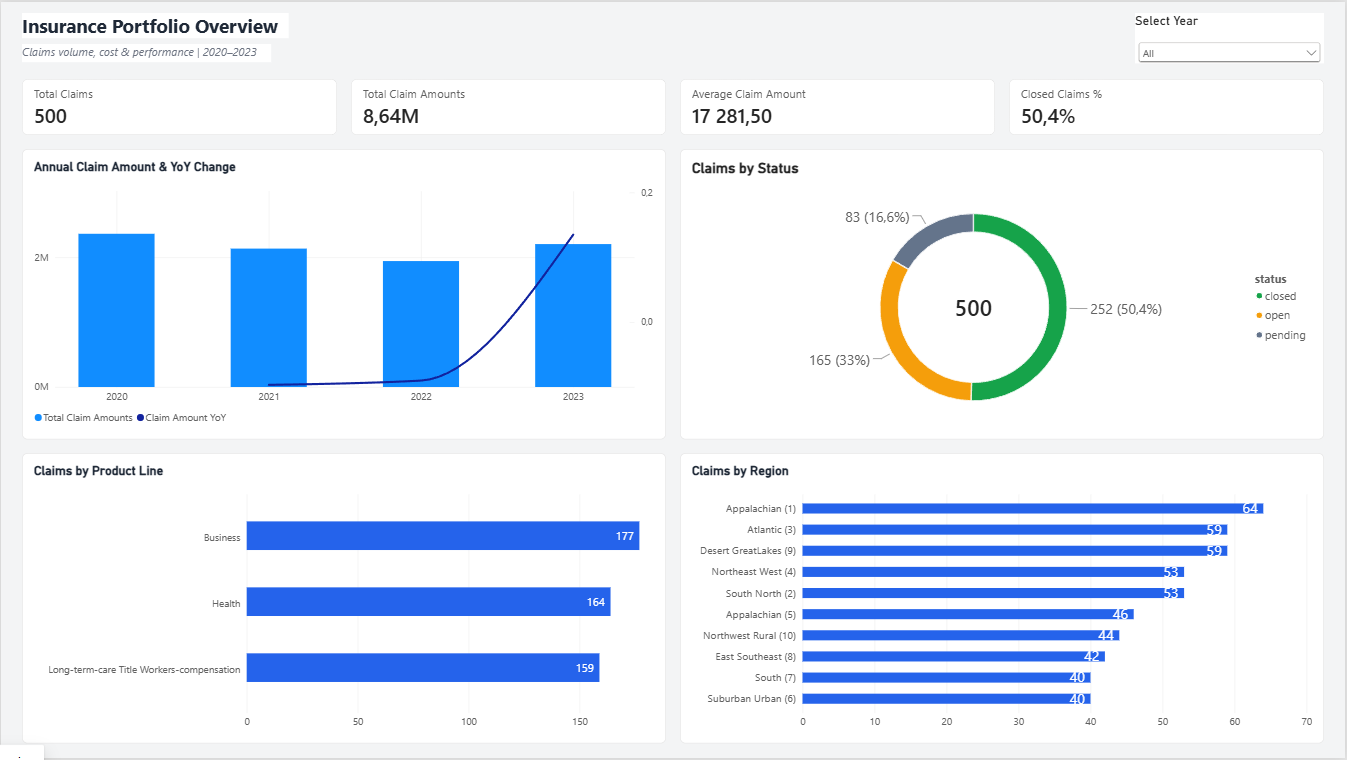

What the dashboard file says about the page in this screenshot:
{"tool":"powerbi","page":{"name":"01 | Portfolio Overview","canvas":[1920,1080],"ordinal":0},"visuals":[{"type":"cardVisual","fields":{"Data":["claims.Total Claims"]},"box":[30,110,450,80],"z":0},{"type":"cardVisual","fields":{"Data":["claims.Total Claim Amounts"]},"box":[500,110,450,80],"z":1000},{"type":"cardVisual","fields":{"Data":["claims.Average Claim Amount"]},"box":[970,110,450,80],"z":2000},{"type":"cardVisual","fields":{"Data":["claims.Closed Claims %"]},"box":[1440,110,450,80],"z":3000},{"type":"lineClusteredColumnComboChart","title":"Annual Claim Amount & YoY Change","fields":{"Category":["DimCalendar.Year"],"Y2":["claims.Claim Amount YoY"],"Y":["claims.Total Claim Amounts"]},"box":[30,210,920.5,415],"z":4000},{"type":"textbox","box":[30,60,355.8,26.4],"z":5000},{"type":"textbox","box":[30,15,381.2,36],"z":6000},{"type":"donutChart","title":"Claims by Status","fields":{"Category":["claims.status"],"Y":["claims.Total Claims"]},"box":[970,210,920.5,415],"z":7000},{"type":"clusteredBarChart","title":"Claims by Product Line","fields":{"Category":["product_lines.name"],"Y":["claims.Total Claims"]},"box":[30,645,920.5,415],"z":8000},{"type":"clusteredBarChart","title":"Claims by Region","fields":{"Y":["claims.Total Claims"],"Category":["regions.Region Label"]},"box":[970,645,920,415],"z":9000},{"type":"slicer","title":"Select Year","fields":{"Values":["DimCalendar.Year"]},"box":[1620,15.6,270,71.7],"z":10000}]}

Visuals, with their boxes in screenshot pixels (x1, y1, x2, y2), scaled from the page's 1920x1080 canvas onto the 1347x760 screenshot:
cardVisual - claims.Total Claims: bbox=(21, 77, 337, 134)
cardVisual - claims.Total Claim Amounts: bbox=(351, 77, 666, 134)
cardVisual - claims.Average Claim Amount: bbox=(681, 77, 996, 134)
cardVisual - claims.Closed Claims %: bbox=(1010, 77, 1326, 134)
"Annual Claim Amount & YoY Change" lineClusteredColumnComboChart: bbox=(21, 148, 667, 440)
textbox: bbox=(21, 42, 271, 61)
textbox: bbox=(21, 11, 288, 36)
"Claims by Status" donutChart: bbox=(681, 148, 1326, 440)
"Claims by Product Line" clusteredBarChart: bbox=(21, 454, 667, 746)
"Claims by Region" clusteredBarChart: bbox=(681, 454, 1326, 746)
"Select Year" slicer: bbox=(1137, 11, 1326, 61)
